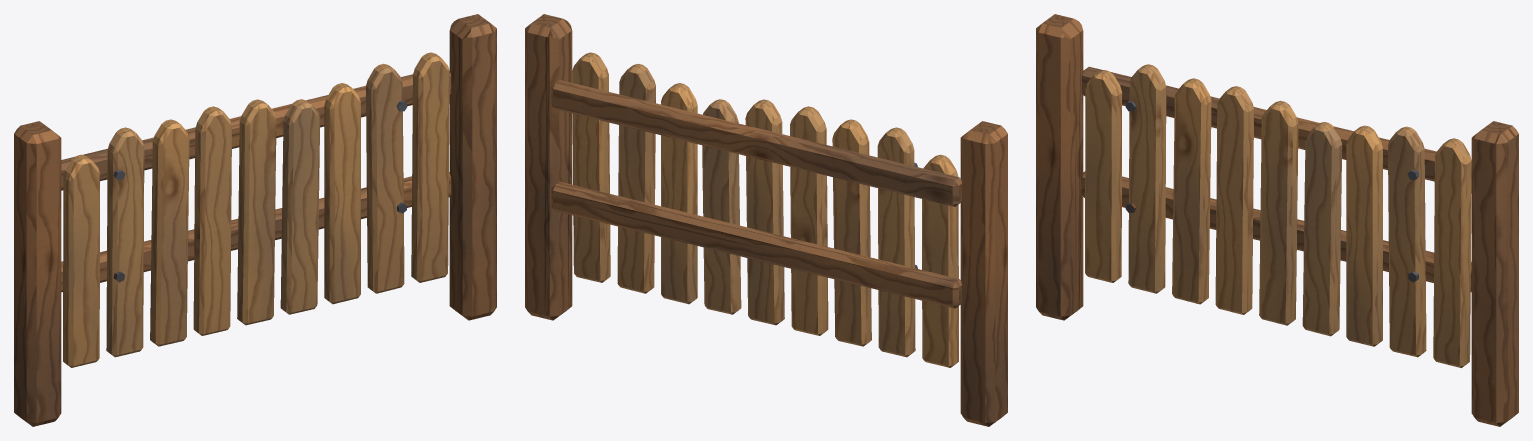
The model's file is cit.glb.
The picture shows the model from 3 angles, left to right: view 1: azimuth 30°, elevation 25°; view 2: azimuth 150°, elevation 25°; view 3: azimuth 330°, elevation 25°; orthographic projection.
Parts seen in each view (by area): view 1: cit; view 2: cit; view 3: cit.
Part boxes in pixels (x1,y1,x2,y2): cit: (14,14,496,426); cit: (525,14,1007,426); cit: (1036,14,1518,426).
Size of the model in its own units: 3 by 1.78 by 0.26.
1 material, 1 textured.
